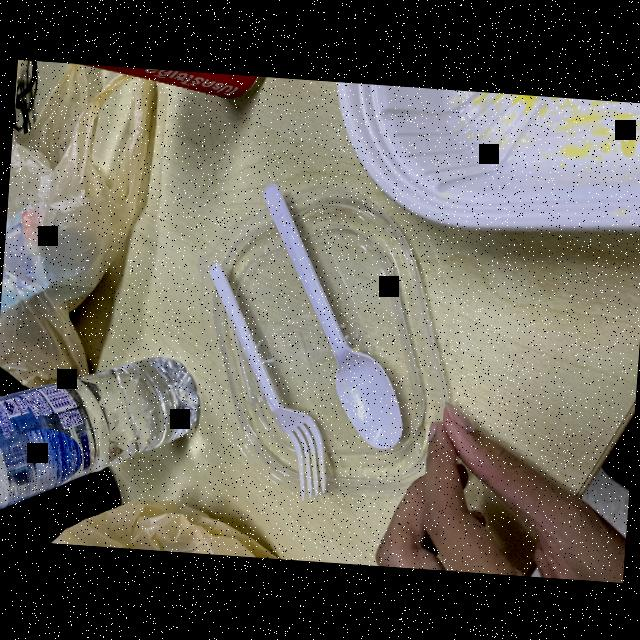plastic_spoon: (237, 178, 435, 464), (185, 258, 348, 507)
